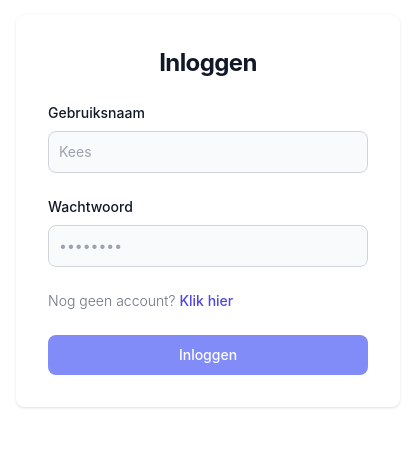
Scenario: Test login page › Inloggen zonder wachtwoord
In the field with id "gebruiksnaam": x=208, y=152 [48,131,368,173], type "test"
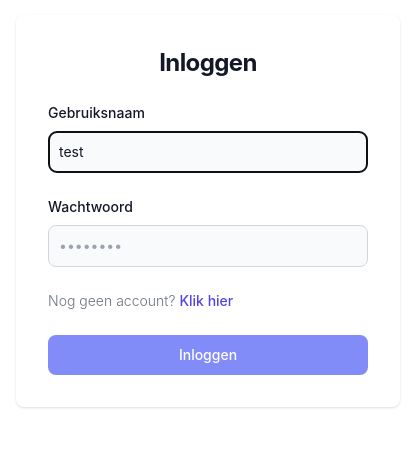
Click the button "Inloggen": x=208, y=355 [48,335,368,375]
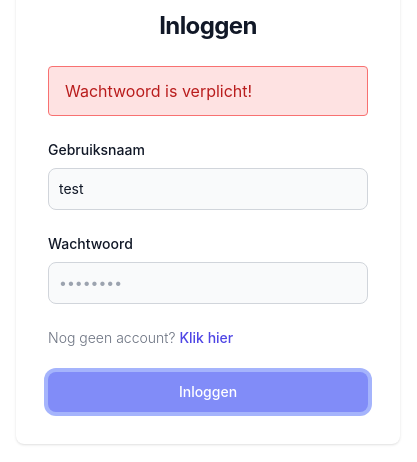
Check: the text "Wachtwoord is verplicht!" is shown, box [65,81,252,101]
